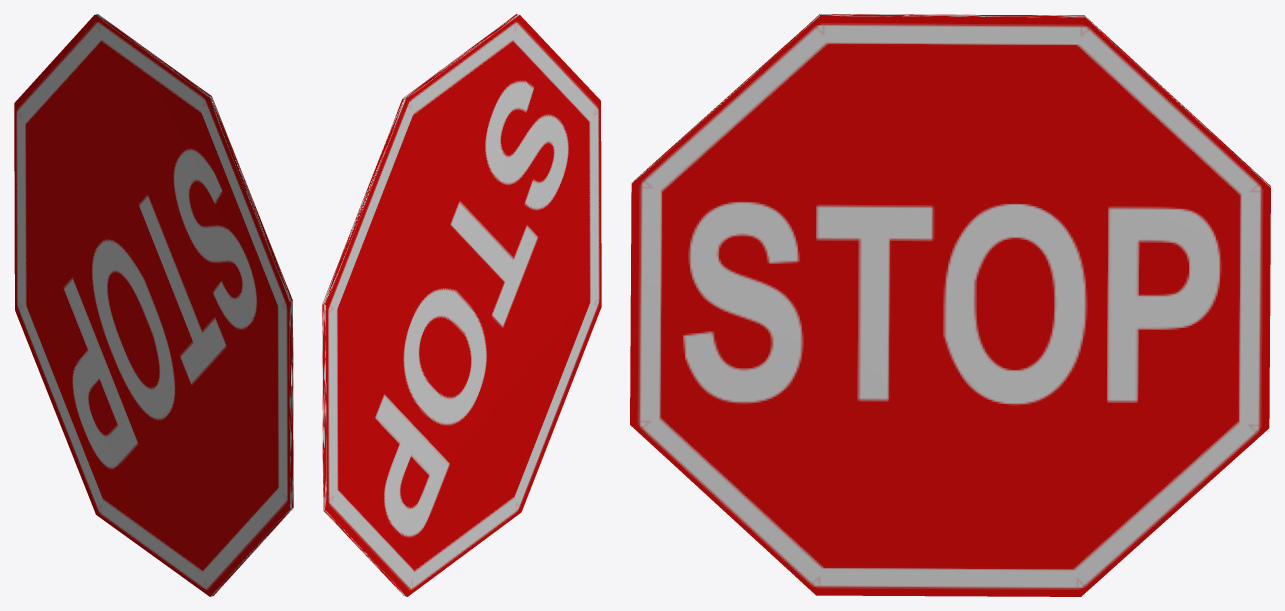
Rendered from StopSign.fbx.
3 renders of one model, left to right at view 1: azimuth 30°, elevation 25°; view 2: azimuth 150°, elevation 25°; view 3: azimuth 270°, elevation 25°, orthographic. The views are drawn at different scales.
Visible parts, largest first — view 1: Cylinder_001; view 2: Cylinder_001; view 3: Cylinder_001.
Part boxes in pixels (<box>): Cylinder_001: <box>14,14,293,596</box>; Cylinder_001: <box>322,14,601,596</box>; Cylinder_001: <box>630,14,1270,596</box>.
Size of the model in its own units: 0.0141 by 1.85 by 1.85.
Materials: 2 (2 with a texture image).
